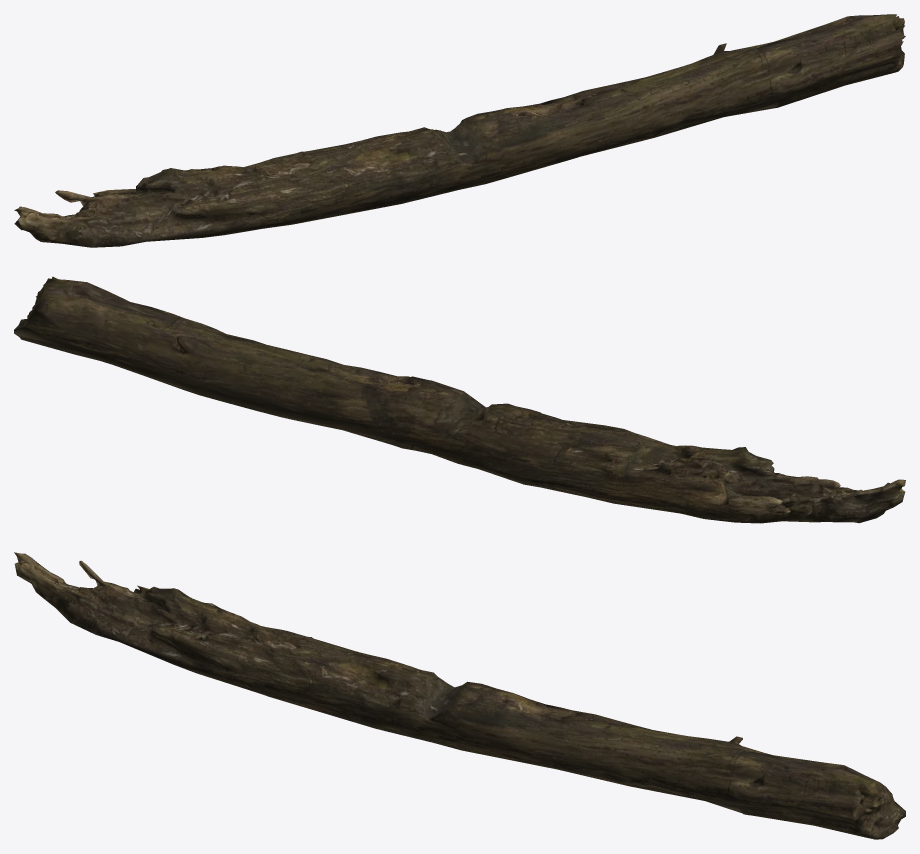
The model's file is dead_tree_trunk.glb.
3 views of the same model, one above another, from view 1: azimuth 30°, elevation 25°; view 2: azimuth 150°, elevation 25°; view 3: azimuth 330°, elevation 25° (orthographic).
Parts seen in each view (by area): view 1: dead_tree_trunk; view 2: dead_tree_trunk; view 3: dead_tree_trunk.
Boxes of the visible parts, x1,y1,x2,y2 form: dead_tree_trunk: [14, 14, 905, 247]; dead_tree_trunk: [14, 276, 905, 523]; dead_tree_trunk: [14, 552, 905, 839].
Size of the model in its own units: 3.05 by 0.2867 by 0.2763.
Materials: 1 (1 with a texture image).
